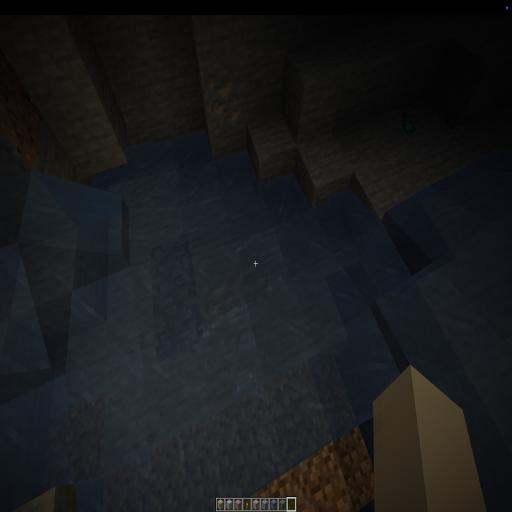iron ore: (190, 265, 246, 334), (198, 65, 254, 132)
